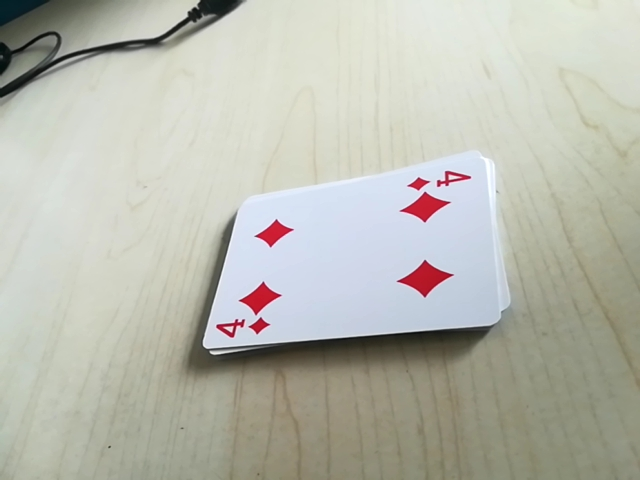fk 4: (209, 316, 279, 350), (406, 163, 476, 194)
